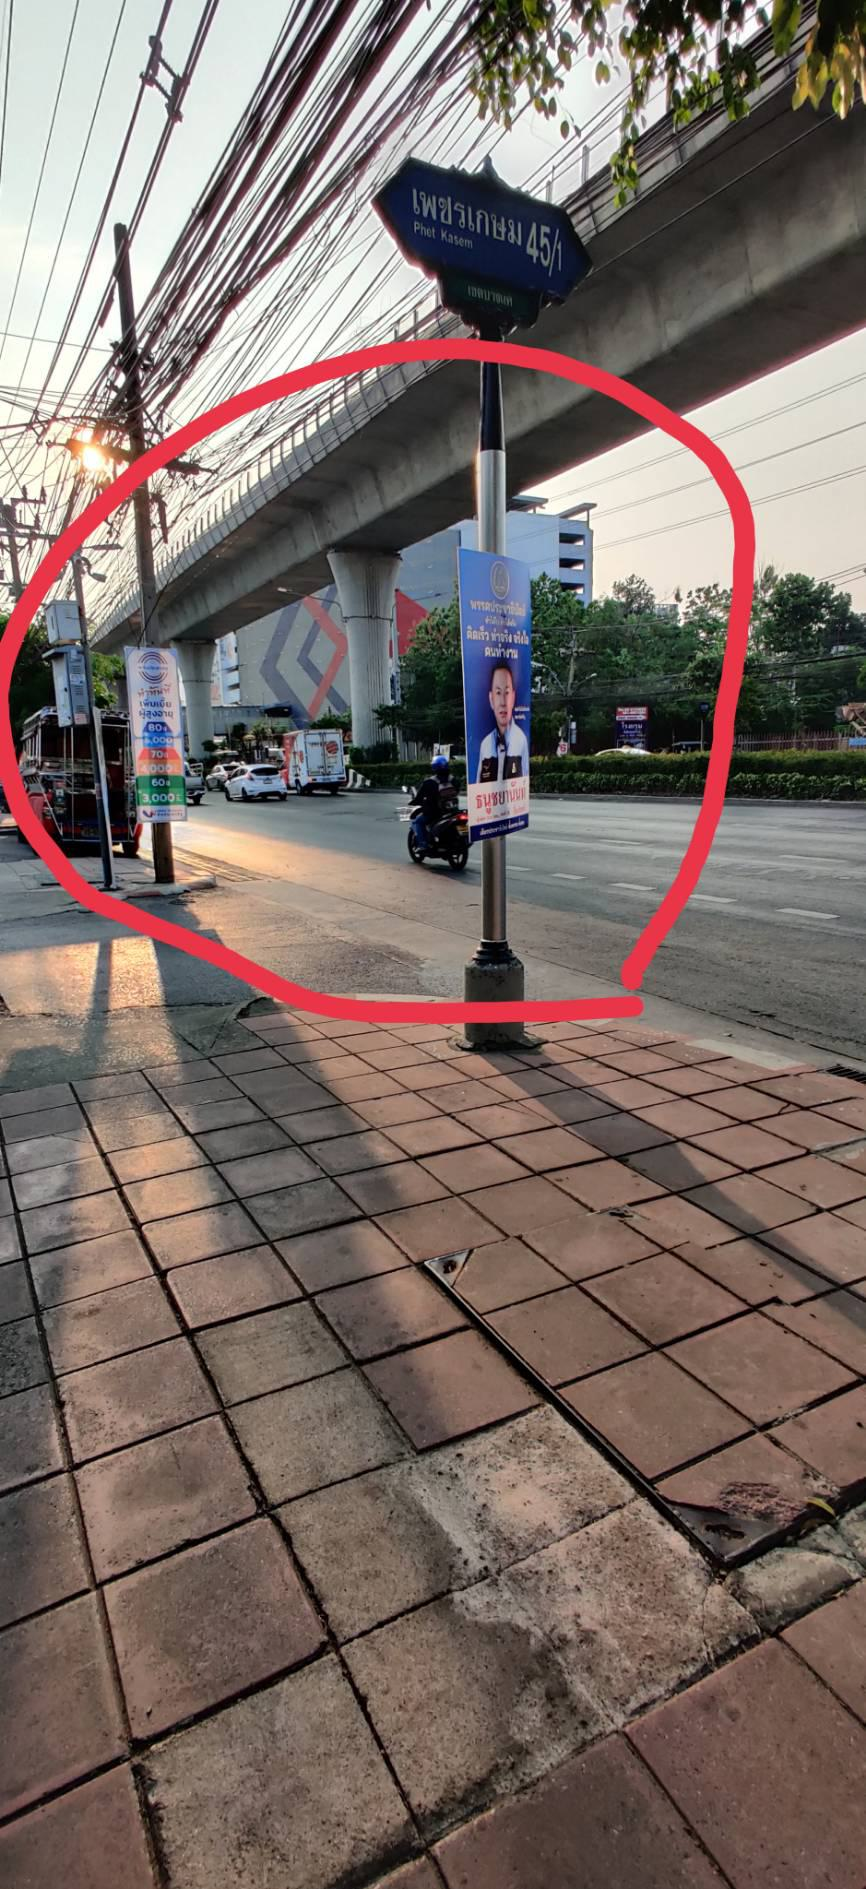Banner: (448, 557, 548, 840), (120, 632, 188, 834)
